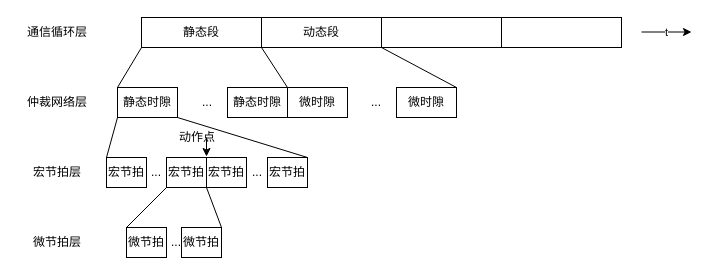
The diagram is 717 pixels wide and 275 high, and some of its shapes have lost their labels. The centre of each missing label's shape, as x and y in pixels:
"符号窗" goes at point 441,32.
"网络空闲时间" goes at point 561,32.
